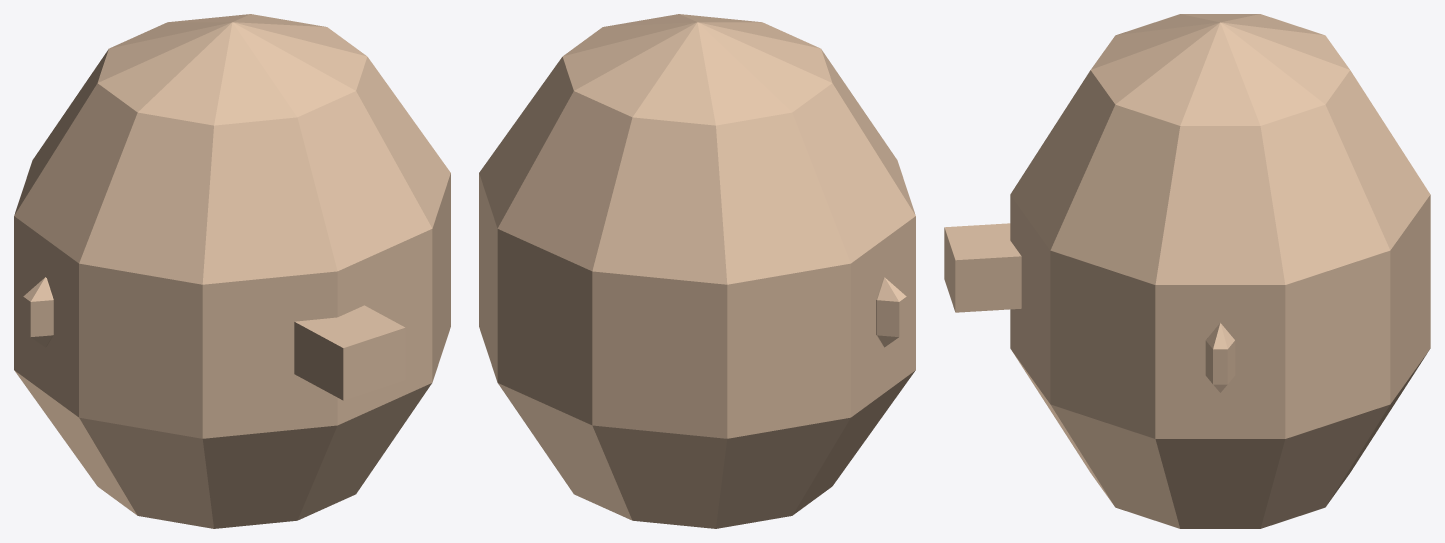
The model's file is npc_head_02.glb.
3 renders of one model, left to right at view 1: azimuth 30°, elevation 25°; view 2: azimuth 150°, elevation 25°; view 3: azimuth 270°, elevation 25°, orthographic.
Visible parts, largest first — view 1: npc_head_02; view 2: npc_head_02; view 3: npc_head_02.
Part boxes in pixels (left/top/right/bottom): npc_head_02: left=14, top=14, right=450, bottom=528; npc_head_02: left=479, top=14, right=915, bottom=528; npc_head_02: left=944, top=14, right=1430, bottom=528.
Bounding box in the file's own units: 0.4505 × 0.5222 × 0.4619.
